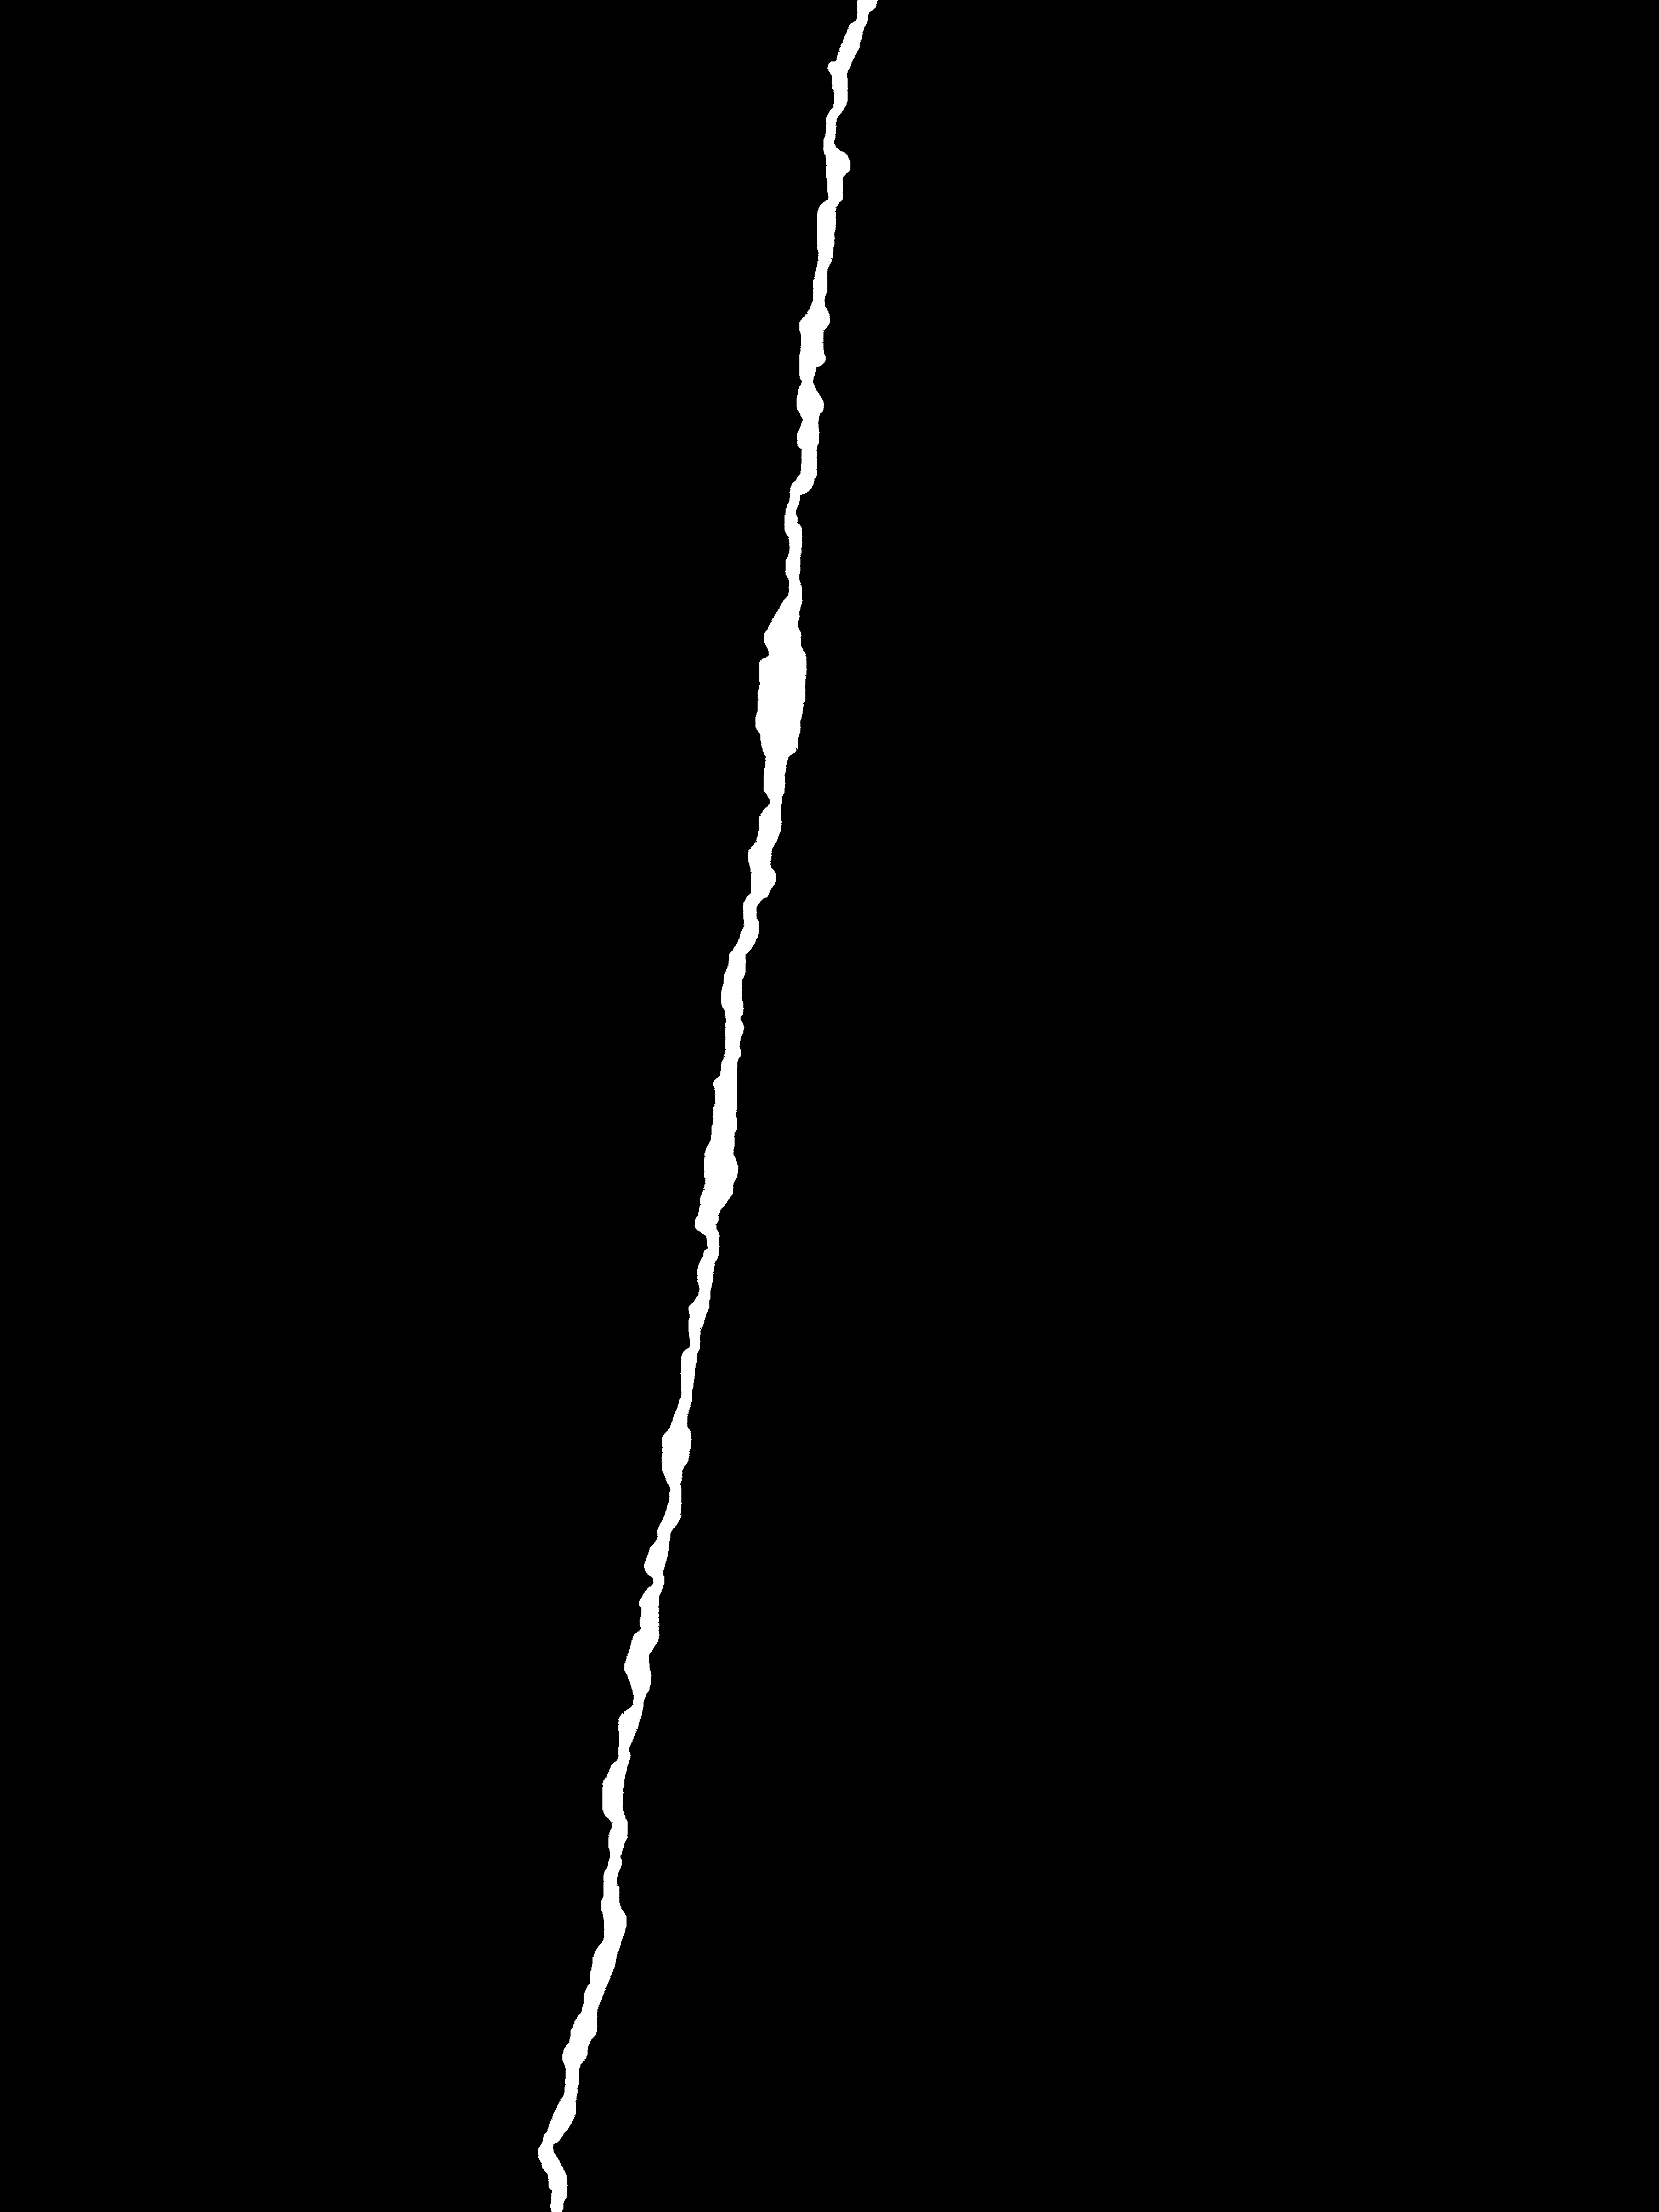Crack: (512, 0, 927, 2212)
